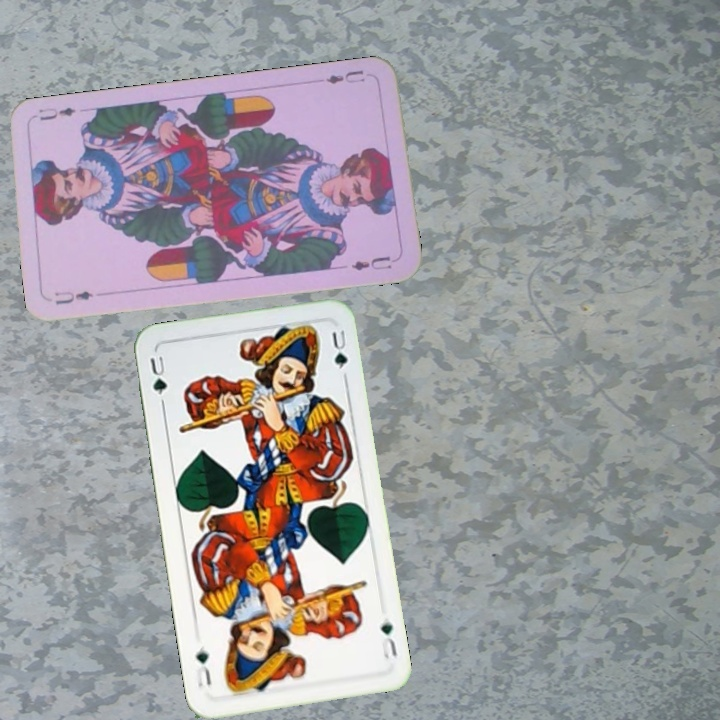EU: (51, 286, 96, 307), (322, 66, 367, 86)
GU: (146, 352, 170, 398), (377, 617, 399, 662)
